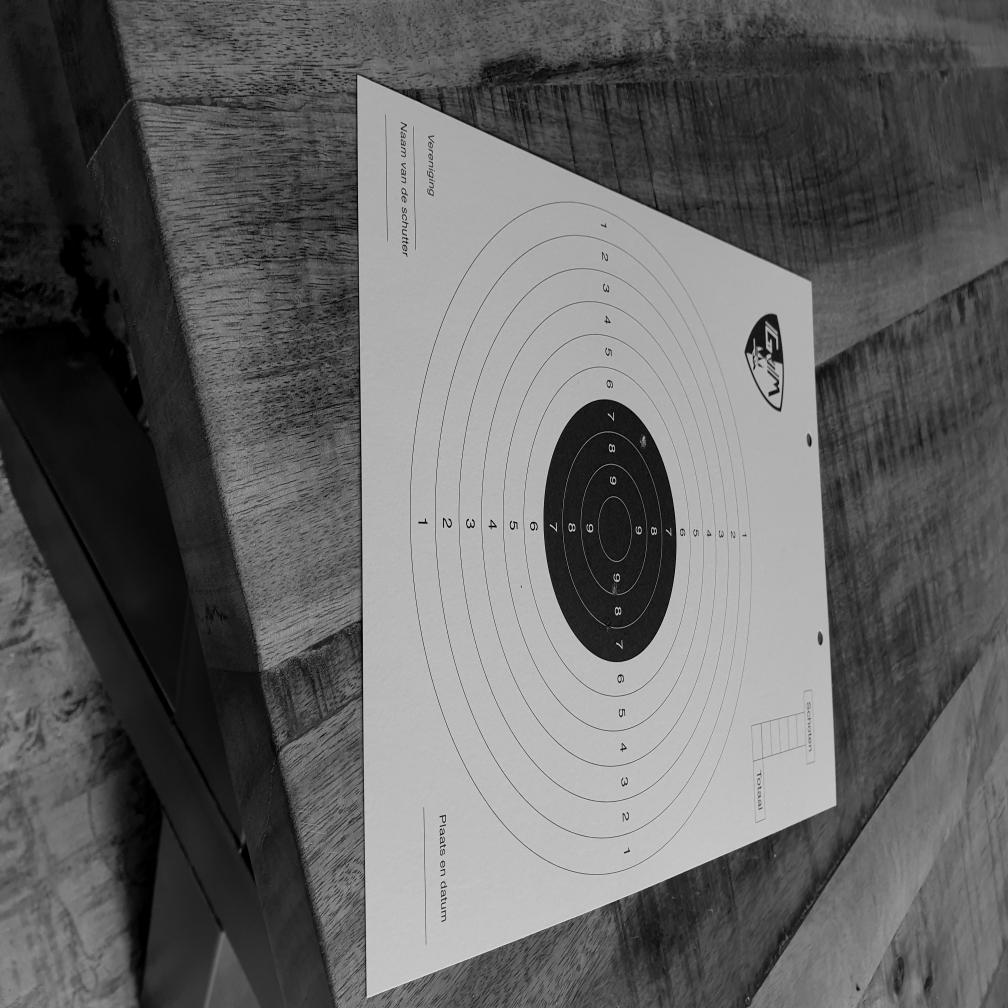7: (639, 434, 647, 450)
8: (605, 617, 612, 633)
9: (612, 582, 619, 597)
Target: (411, 203, 751, 879)
black_contour: (544, 398, 677, 664)
